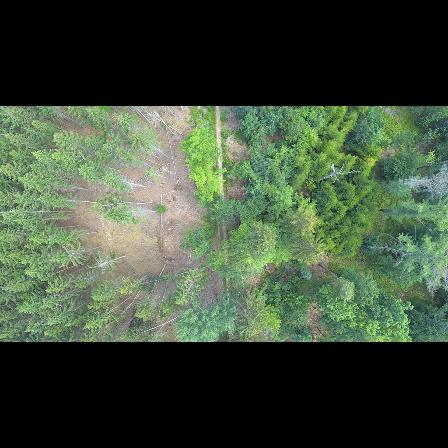Dead: (392, 163, 448, 200), (316, 161, 362, 186)
